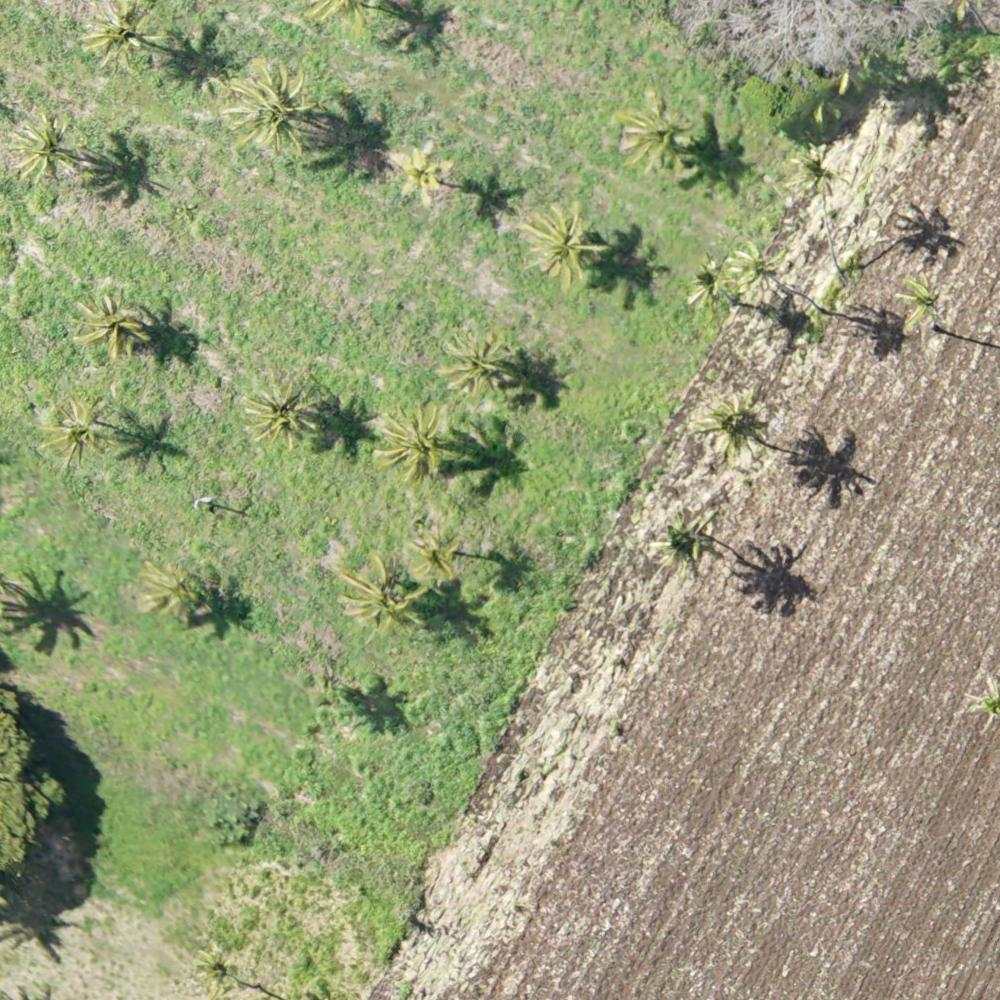Palm: (223, 66, 323, 156), (331, 555, 430, 638), (520, 204, 613, 285), (372, 401, 462, 478), (617, 97, 697, 179), (70, 290, 149, 365), (240, 374, 320, 448), (82, 2, 165, 72), (441, 332, 526, 399), (36, 394, 112, 468), (128, 561, 209, 629), (645, 506, 729, 571), (12, 113, 81, 185), (387, 138, 459, 205), (701, 398, 774, 464), (895, 274, 965, 340), (784, 142, 845, 206), (732, 238, 790, 293), (684, 252, 737, 309), (408, 528, 467, 579)
